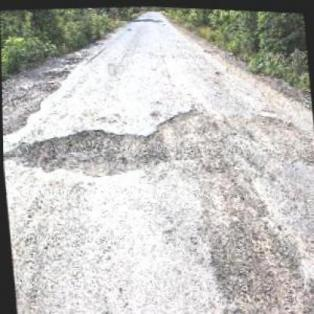Hueco: (10, 120, 148, 181), (149, 103, 208, 168)
